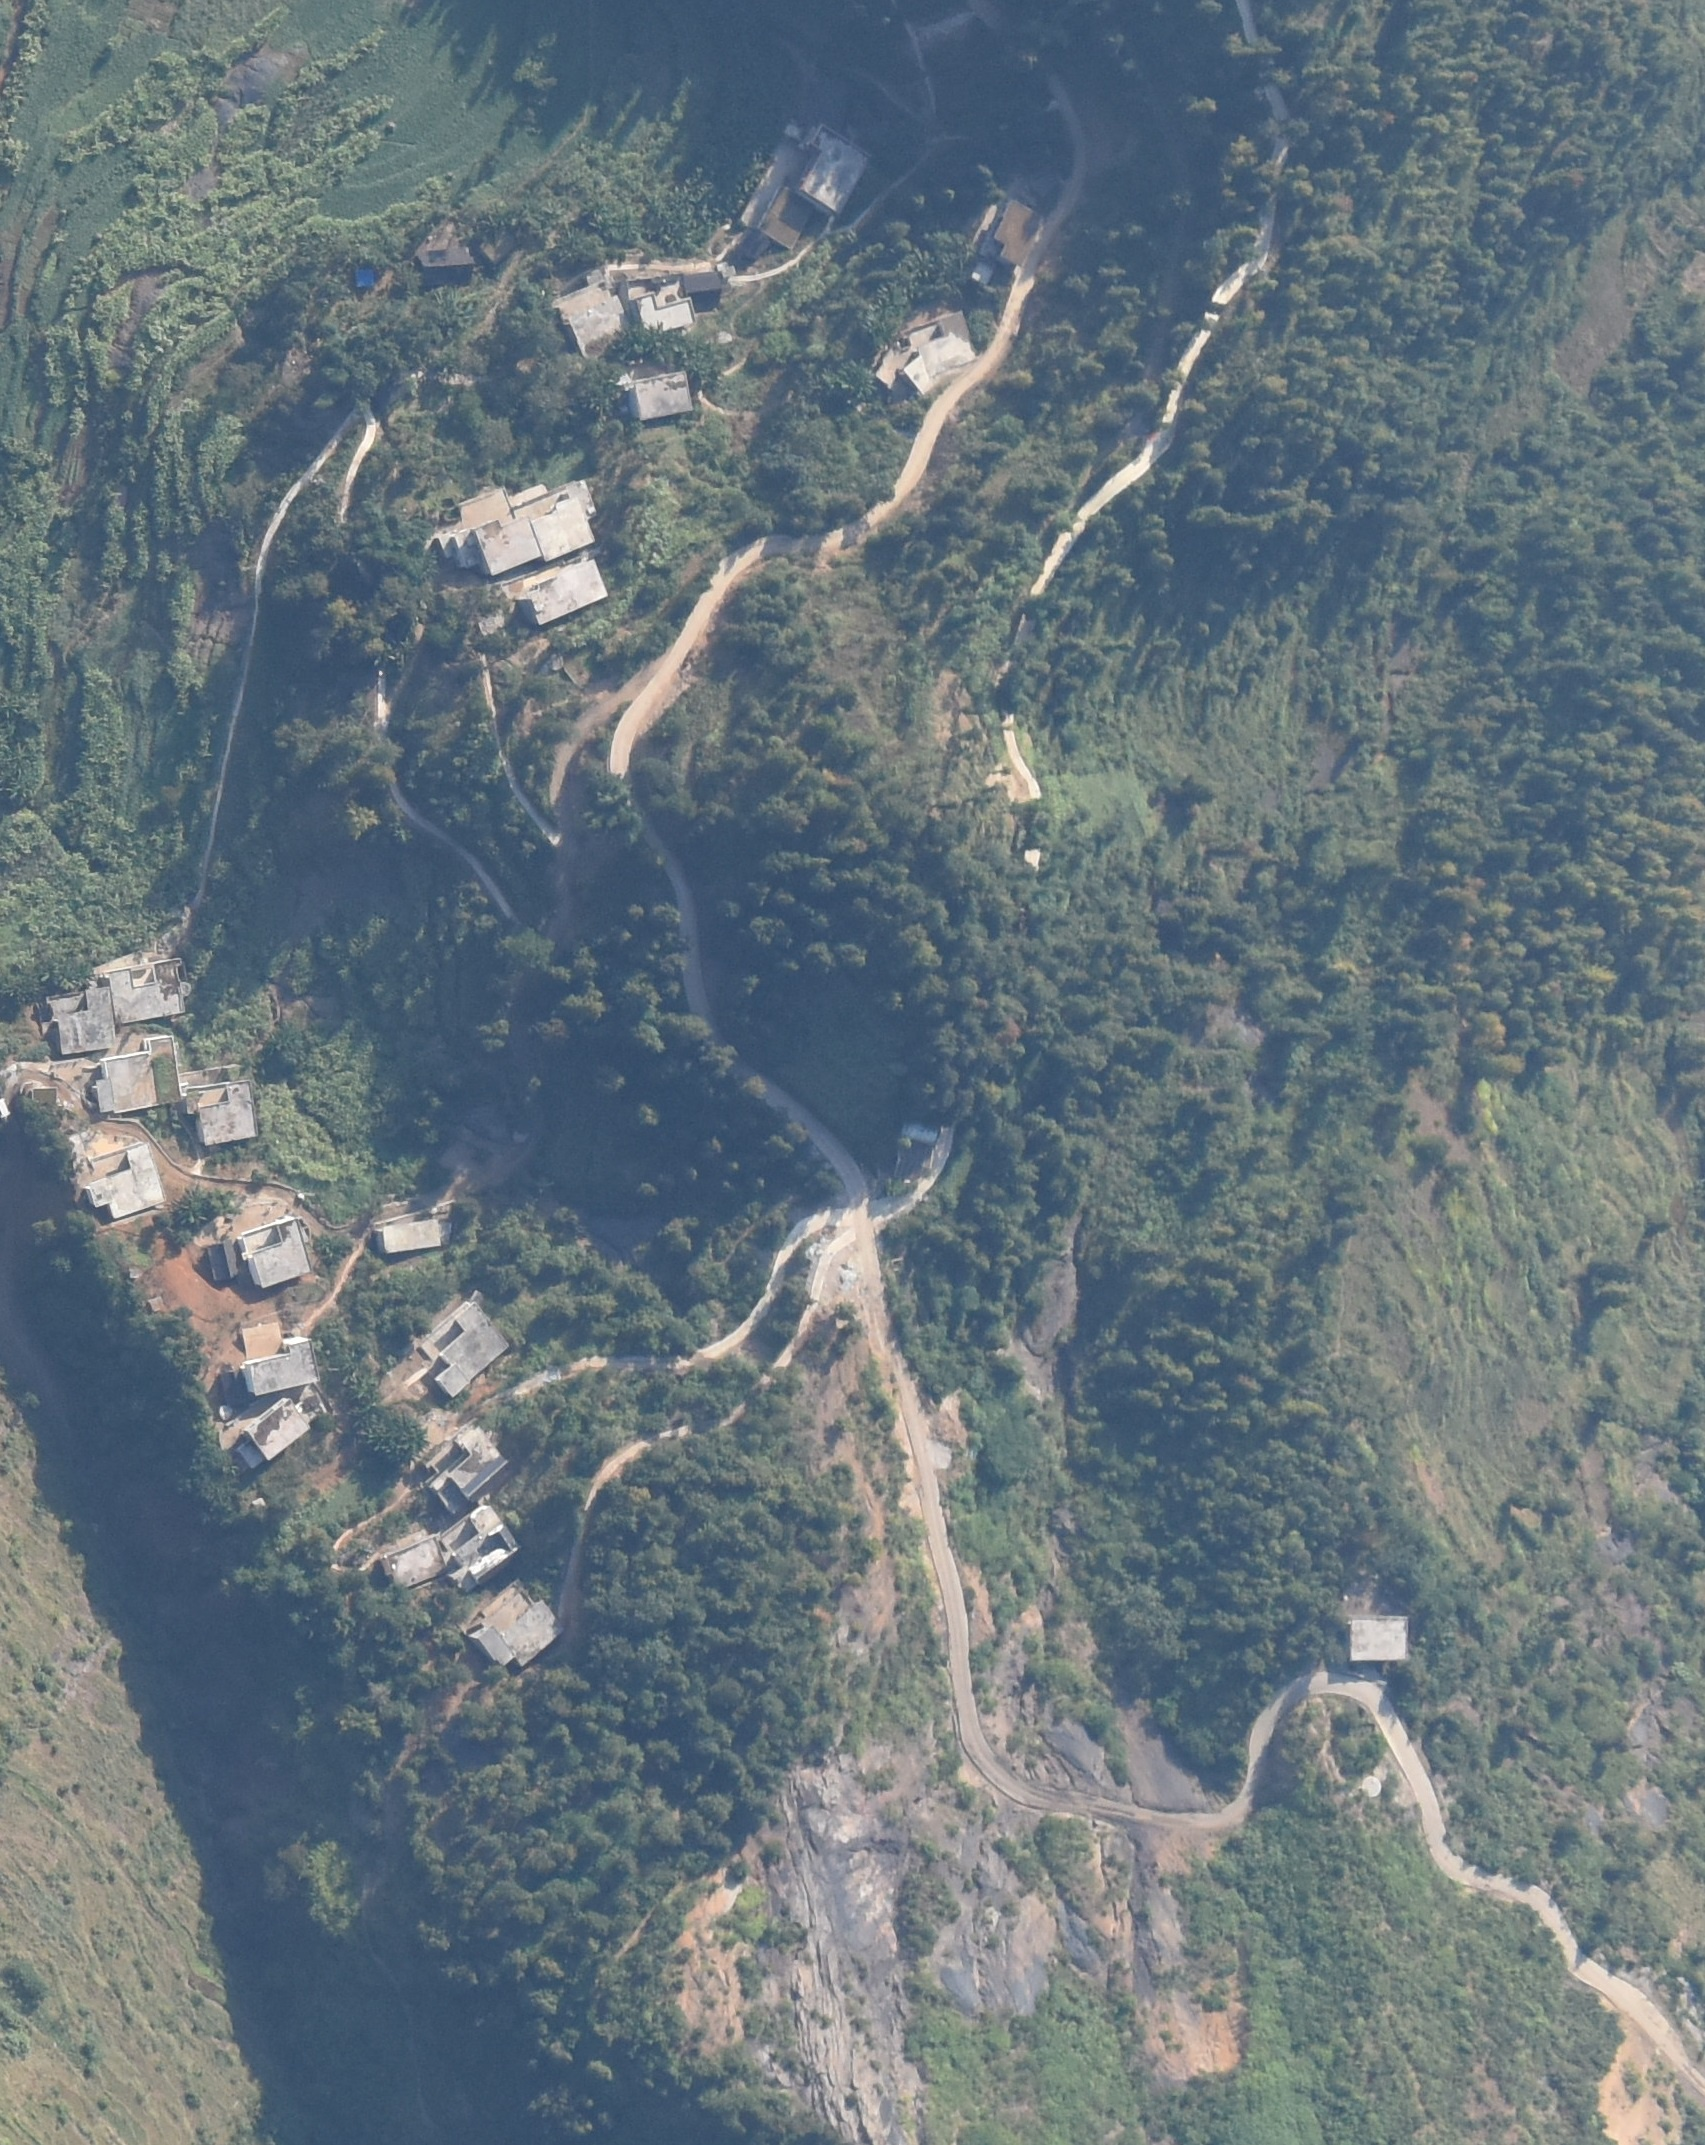building: (432, 481, 600, 570), (874, 311, 976, 397), (422, 1298, 506, 1397), (465, 1586, 560, 1665), (496, 561, 606, 626), (424, 1423, 507, 1508), (94, 1032, 180, 1114), (441, 1506, 523, 1590), (209, 1223, 312, 1288), (621, 262, 723, 327), (180, 1067, 255, 1147), (973, 198, 1040, 287), (799, 126, 868, 212), (85, 1140, 161, 1217), (106, 956, 190, 1022), (44, 978, 117, 1051), (239, 1398, 311, 1469), (554, 283, 624, 354), (244, 1336, 321, 1394), (621, 366, 690, 421), (762, 189, 817, 251), (1349, 1612, 1412, 1665), (380, 1539, 448, 1588), (378, 1217, 445, 1255), (416, 245, 478, 283), (32, 1084, 57, 1105)
prefabricated-house: (346, 261, 383, 293)
well: (1360, 1773, 1382, 1799)
